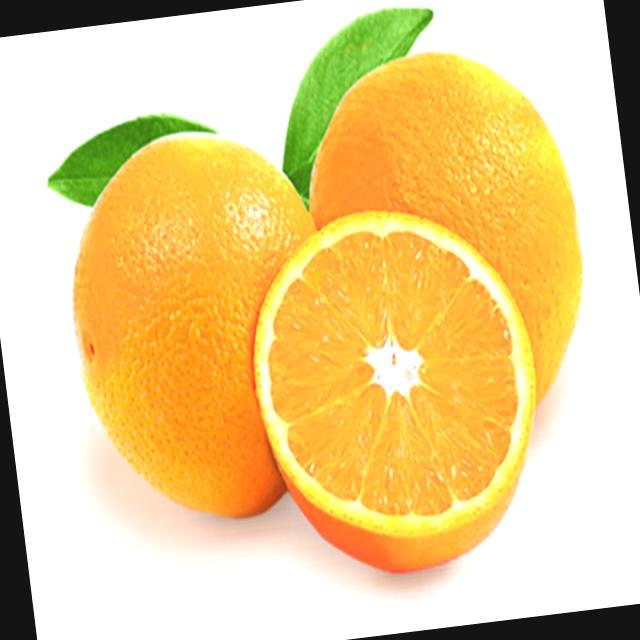orange: (47, 112, 356, 535), (289, 23, 604, 437)
